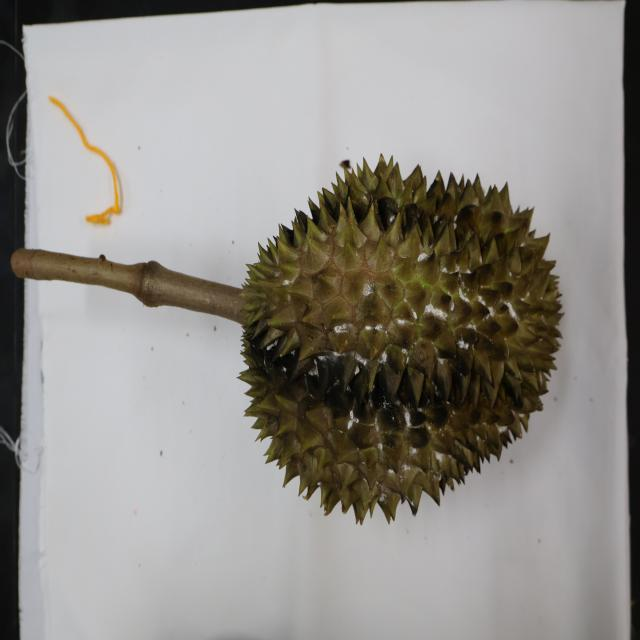defective: (229, 156, 566, 529)
